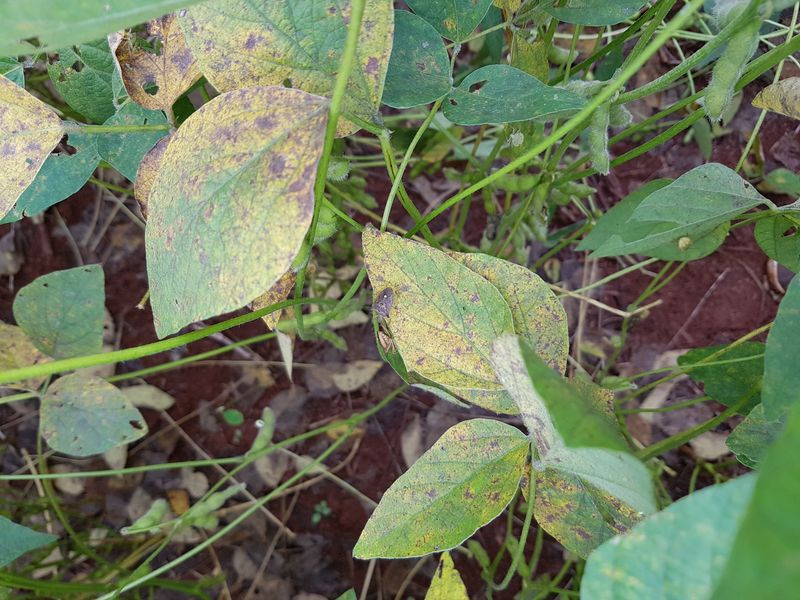Euschistus_heros_adulto: (362, 281, 401, 327)
